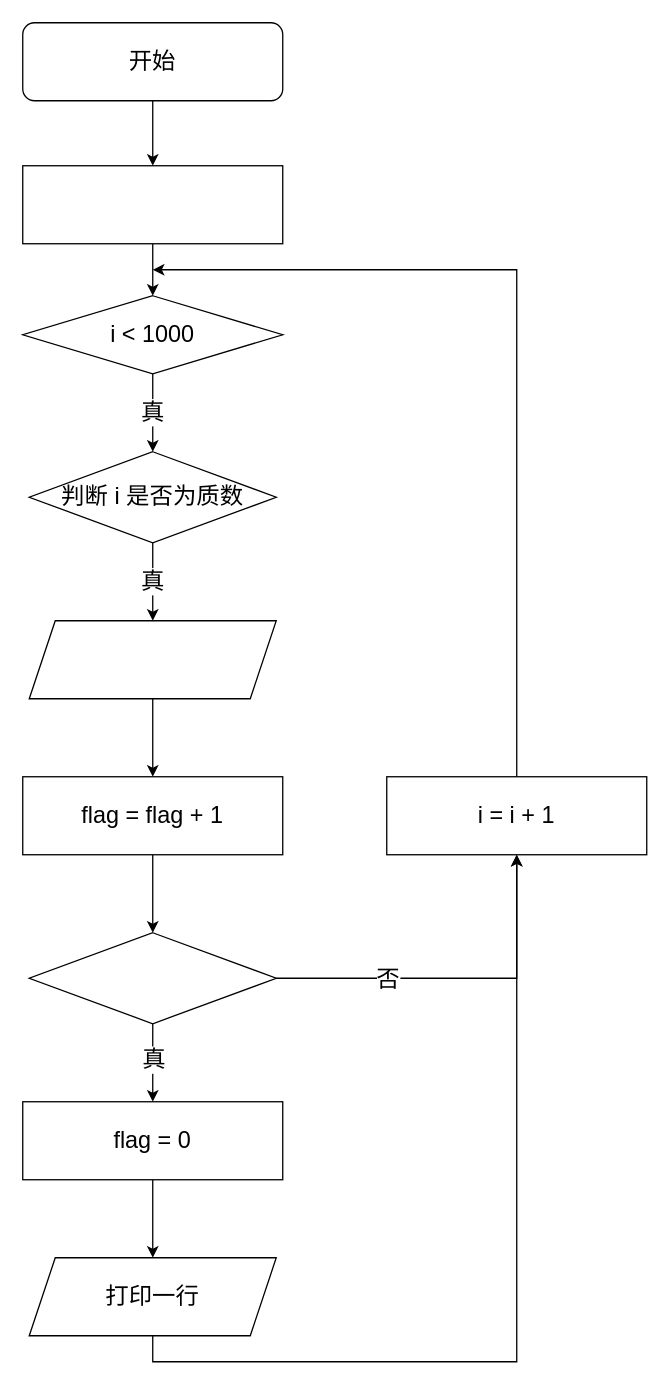
Image size: 670x1395. Some labels were removed from this diagram. The centre of each missing label's shape, as x and y in pixels:
"flag = 0, i = 100" goes at (x=152, y=204).
"flag == 8" goes at (x=152, y=977).
"打印出 i" goes at (x=152, y=659).
